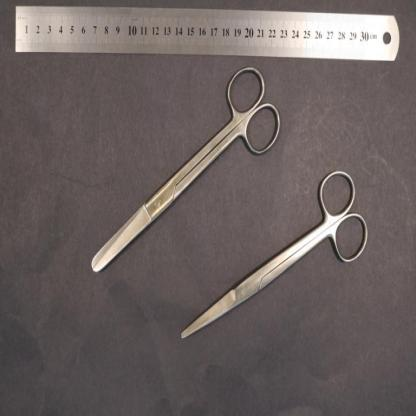Curved Mayo Scissors: (181, 166, 369, 340)
Dressing Scissors: (91, 63, 282, 274)
